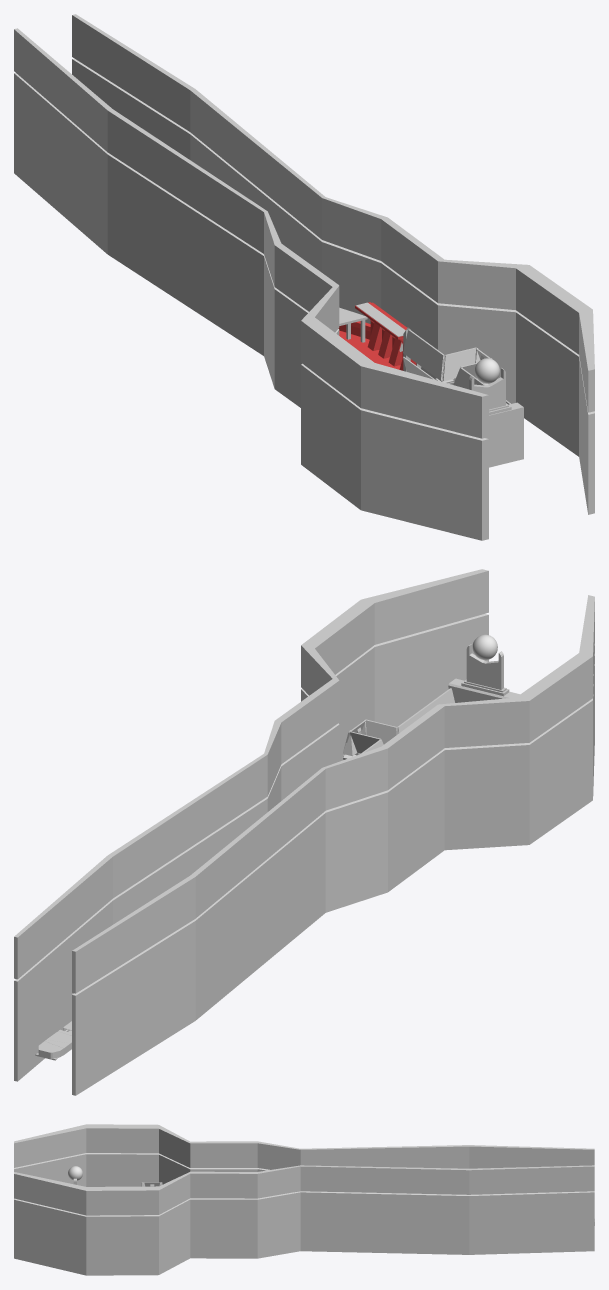
File: Section1.fbx
3 renders of one model, top to bottom at view 1: azimuth 30°, elevation 25°; view 2: azimuth 150°, elevation 25°; view 3: azimuth 270°, elevation 25°, orthographic. The views are drawn at different scales.
Parts seen in each view (by area): view 1: Cube.203, Cube.207, Cube.202, Cube.217, Cube.214, Cube.223, Cube.221, Cube.206, Cube.222, Cube.216, Cube.213, Cube.227 (+19 smaller); view 2: Cube.203, Cube.202, Cube.205, Cube.215, Cube.223, Cube.206, Cube.212, Cube.217, Cube.208, Cube.216, Cube.204, Cube.229 (+17 smaller); view 3: Cube.209, Cube.208, Cube.223, Cube.214, Cube.215, Cube.211, Cube.217, Cube.222, Cube.216, Cube.210, Cube.206, Cube.228 (+13 smaller).
Part boxes in pixels (left/top/right/bottom): Cube.203: left=107, top=155, right=263, bottom=355; Cube.207: left=361, top=410, right=488, bottom=540; Cube.202: left=14, top=73, right=107, bottom=253; Cube.217: left=107, top=109, right=267, bottom=253; Cube.214: left=516, top=312, right=578, bottom=456; Cube.223: left=190, top=89, right=325, bottom=239; Cube.221: left=361, top=363, right=488, bottom=438; Cube.206: left=301, top=365, right=360, bottom=509; Cube.222: left=72, top=14, right=194, bottom=131; Cube.216: left=14, top=28, right=112, bottom=151; Cube.213: left=438, top=305, right=515, bottom=403; Cube.227: left=438, top=259, right=528, bottom=309; Cube.203: left=195, top=813, right=325, bottom=1020; Cube.202: left=72, top=921, right=195, bottom=1095; Cube.205: left=444, top=745, right=529, bottom=850; Cube.215: left=374, top=615, right=488, bottom=726; Cube.223: left=108, top=753, right=267, bottom=898; Cube.206: left=529, top=700, right=592, bottom=844; Cube.212: left=325, top=792, right=387, bottom=912; Cube.217: left=190, top=768, right=325, bottom=918; Cube.208: left=14, top=901, right=112, bottom=1081; Cube.216: left=72, top=875, right=195, bottom=993; Cube.204: left=388, top=750, right=444, bottom=891; Cube.229: left=361, top=569, right=488, bottom=644; Cube.209: left=300, top=1192, right=469, bottom=1254; Cube.208: left=469, top=1192, right=594, bottom=1254; Cube.223: left=300, top=1165, right=469, bottom=1194; Cube.214: left=86, top=1216, right=158, bottom=1275; Cube.215: left=14, top=1199, right=86, bottom=1275; Cube.211: left=190, top=1199, right=257, bottom=1258; Cube.217: left=300, top=1145, right=469, bottom=1168; Cube.222: left=469, top=1165, right=594, bottom=1194; Cube.216: left=469, top=1145, right=594, bottom=1168; Cube.210: left=257, top=1192, right=300, bottom=1258; Cube.206: left=86, top=1154, right=158, bottom=1186; Cube.228: left=86, top=1186, right=158, bottom=1215.
Size of what is drawn, in the model's own units: 21177 by 13408 by 78012.
